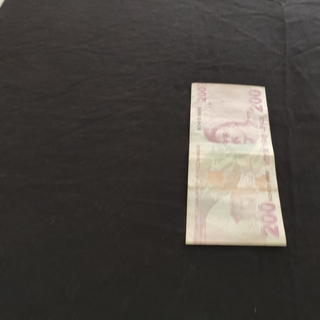200TLBack: (185, 82, 287, 247)
